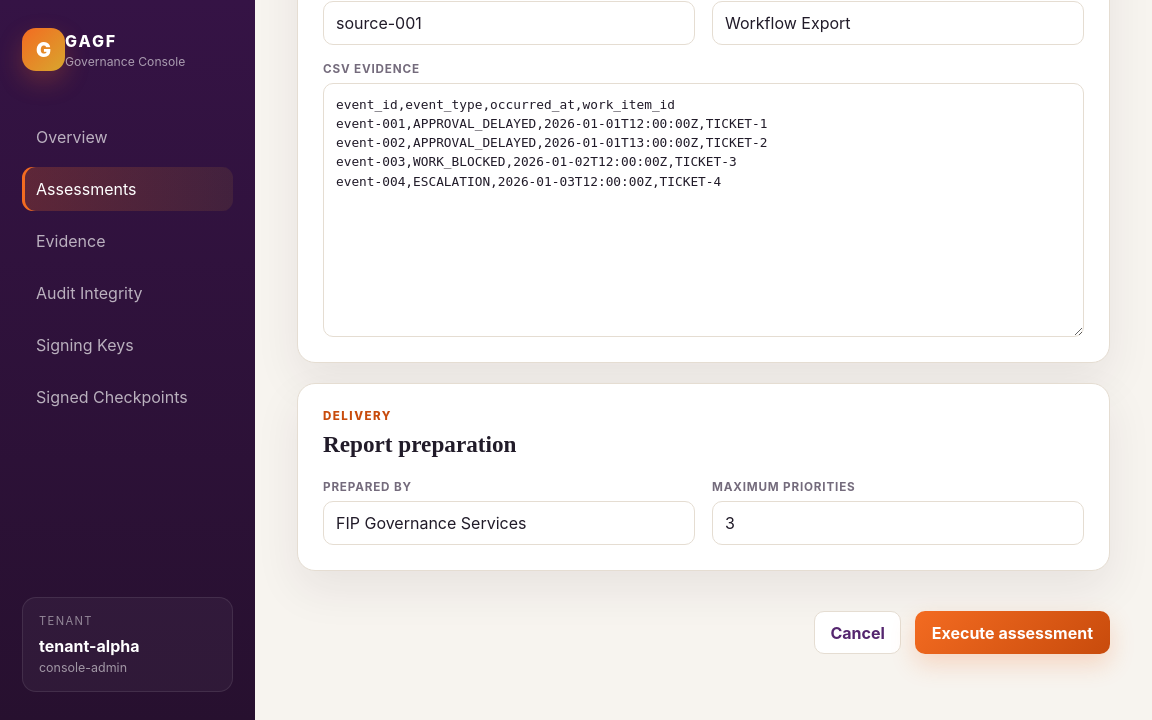
it: NewAssessmentPage delivery actions › opens the completed assessment and client report from the submitted hierarchy
(page scrolled)
Step 1. Click the button "Execute assessment" → (1012, 632), box [915, 611, 1110, 654]
(page scrolled)
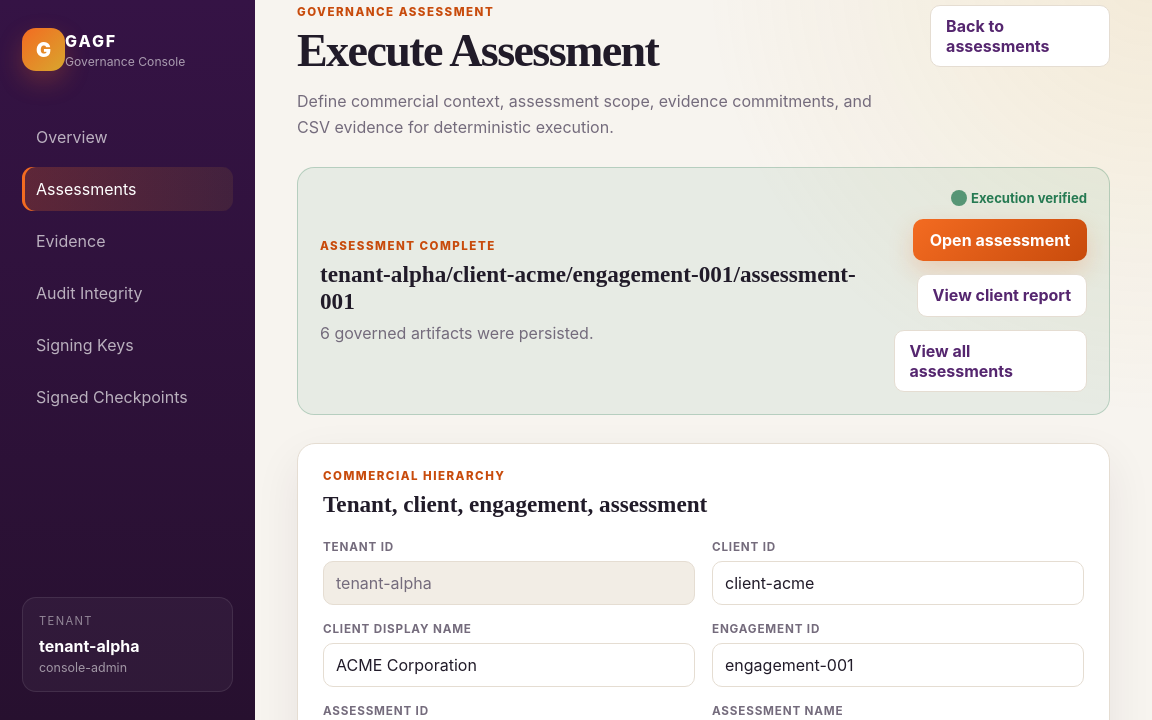
Expected: the text "Assessment complete" is shown, [320, 239, 496, 253]
Expected: the text "6 governed artifacts were persisted." is shown, [320, 323, 594, 343]
